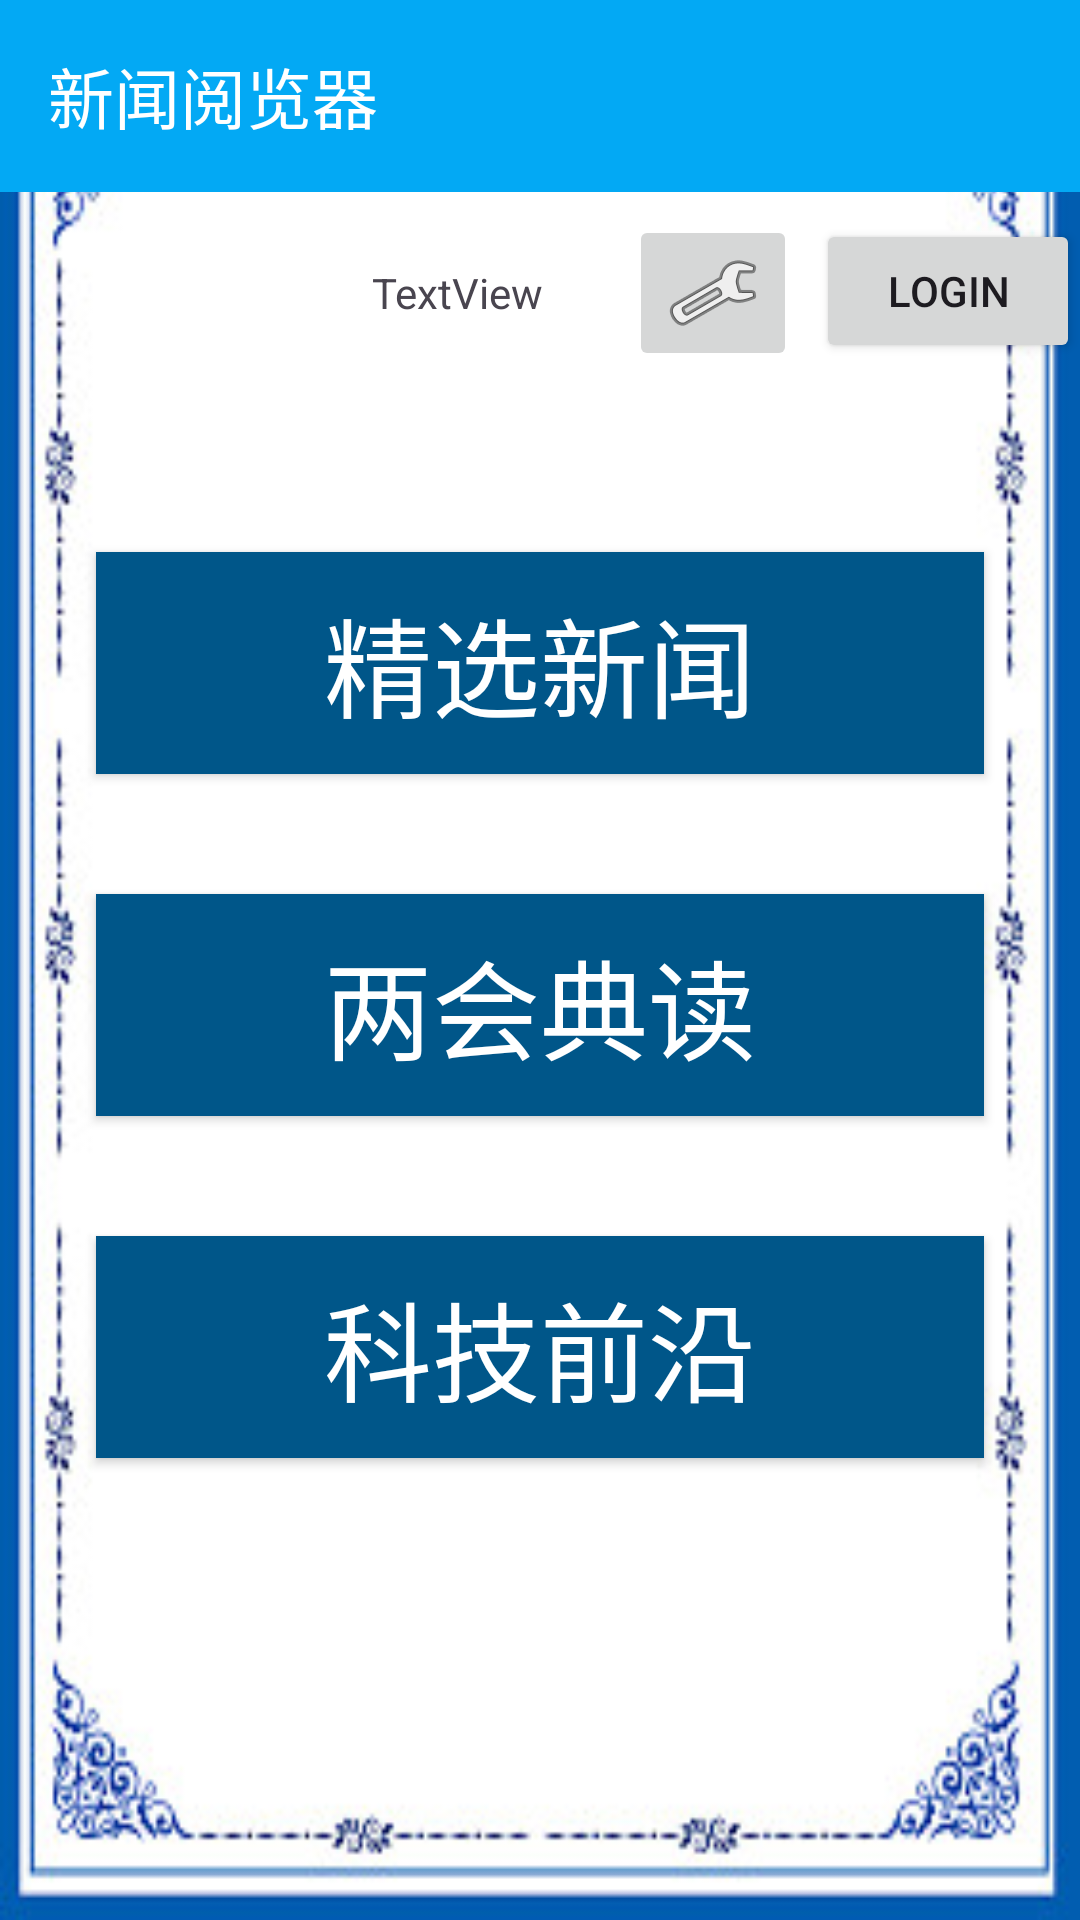

Point at icon controls on the screen. Image size 1080px x 1920px, points as (x,y).
manage: (713,293)
